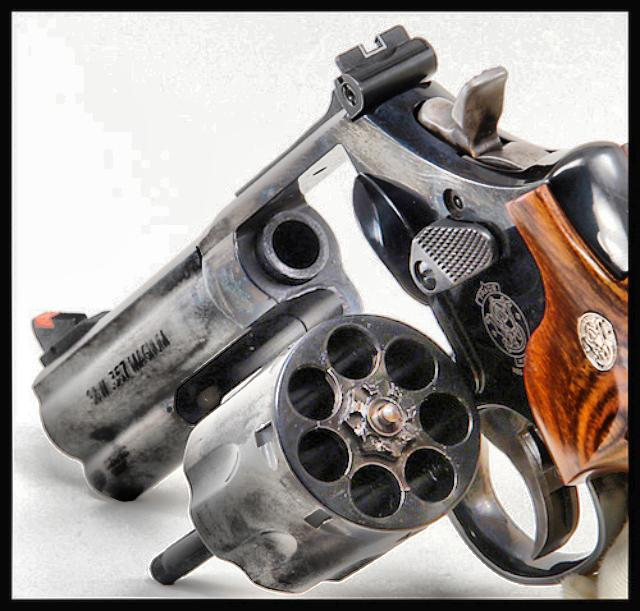pistol: (20, 24, 624, 584)
